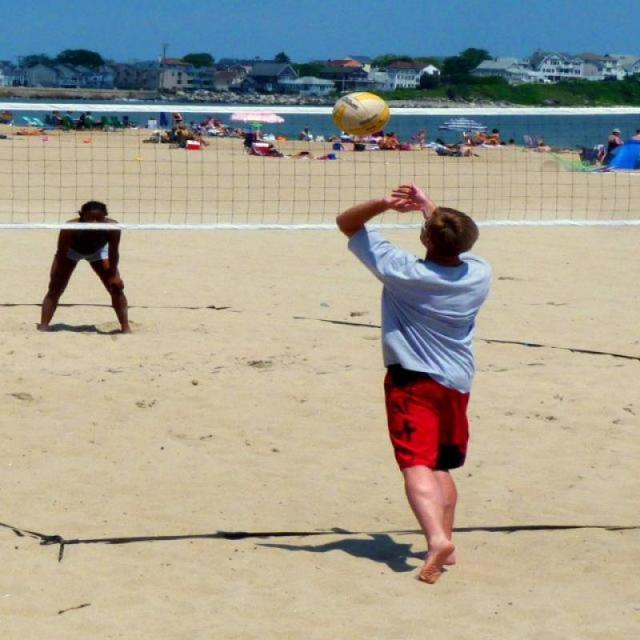volleyball: (331, 92, 390, 137)
